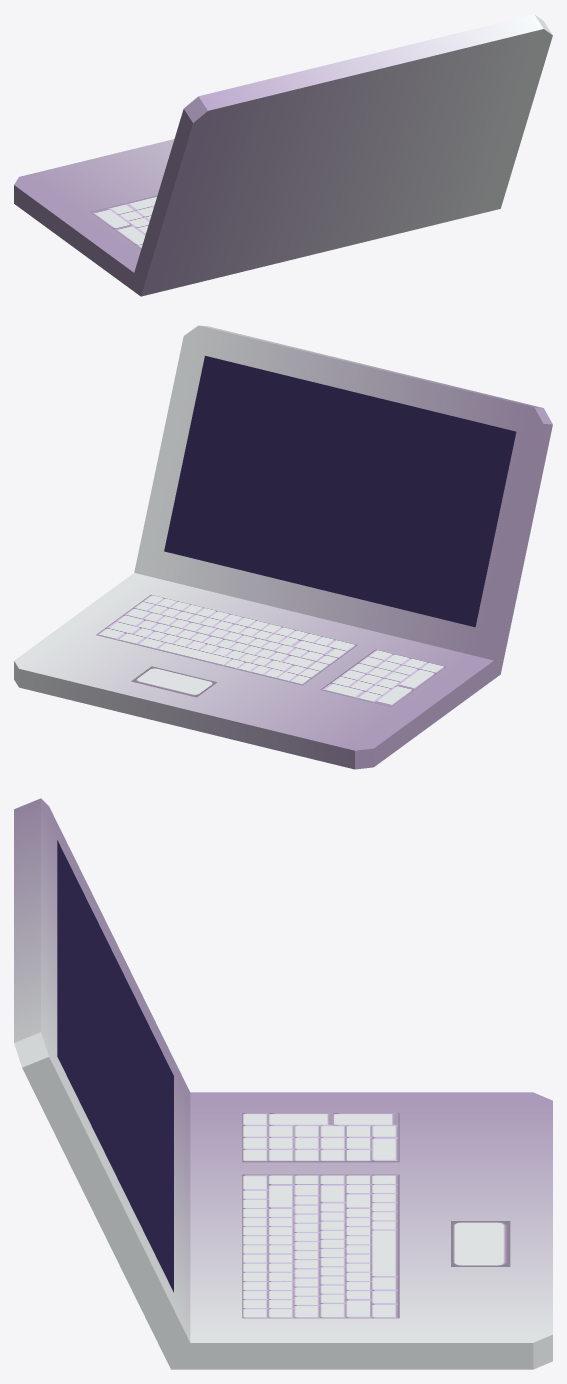
The model's file is laptop.fbx.
3 renders of one model, top to bottom at view 1: azimuth 30°, elevation 25°; view 2: azimuth 150°, elevation 25°; view 3: azimuth 270°, elevation 25°, orthographic. The views are drawn at different scales.
Parts seen in each view (by area): view 1: laptop; view 2: laptop; view 3: laptop.
Part boxes in pixels (x1,y1,x2,y2): laptop: (14,14,552,296); laptop: (14,325,552,769); laptop: (14,798,552,1369).
Bounding box in the file's own units: 61.34 × 37.6 × 55.78.
